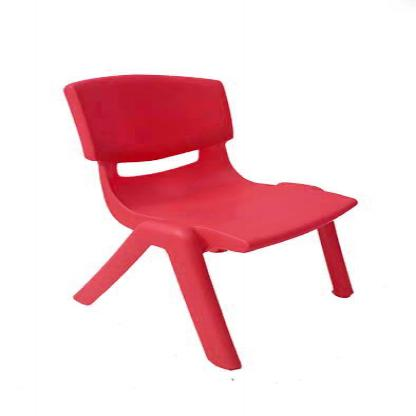chair: (57, 74, 365, 370)
